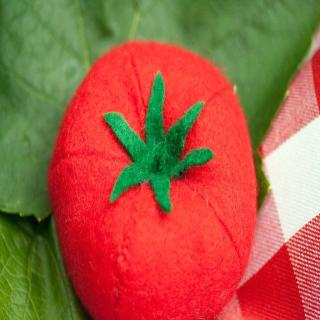tomato: (46, 50, 257, 320)
